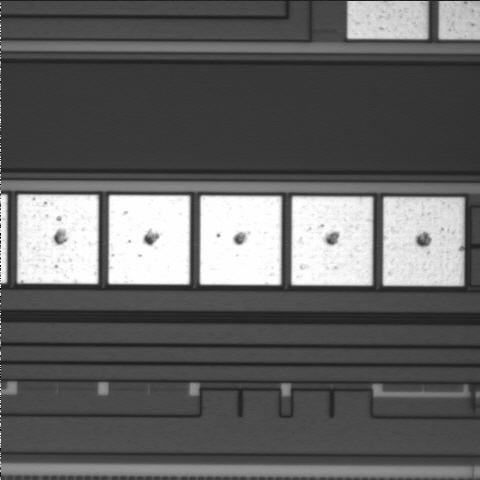pad: (17, 195, 99, 284), (108, 195, 190, 284), (200, 196, 282, 285), (291, 196, 373, 285), (383, 197, 464, 286)
